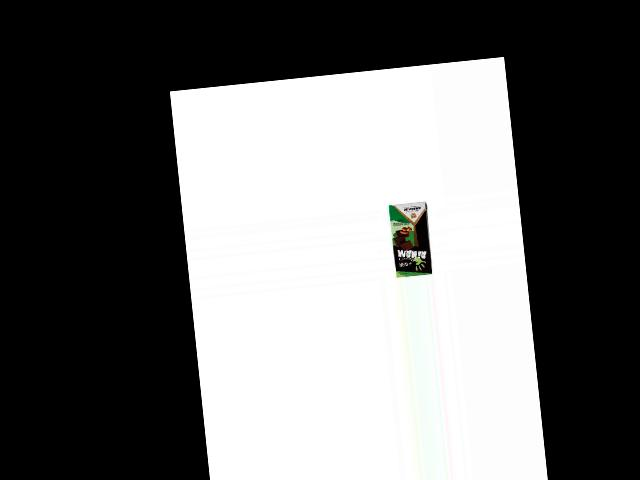chocolate: (386, 200, 435, 279)
